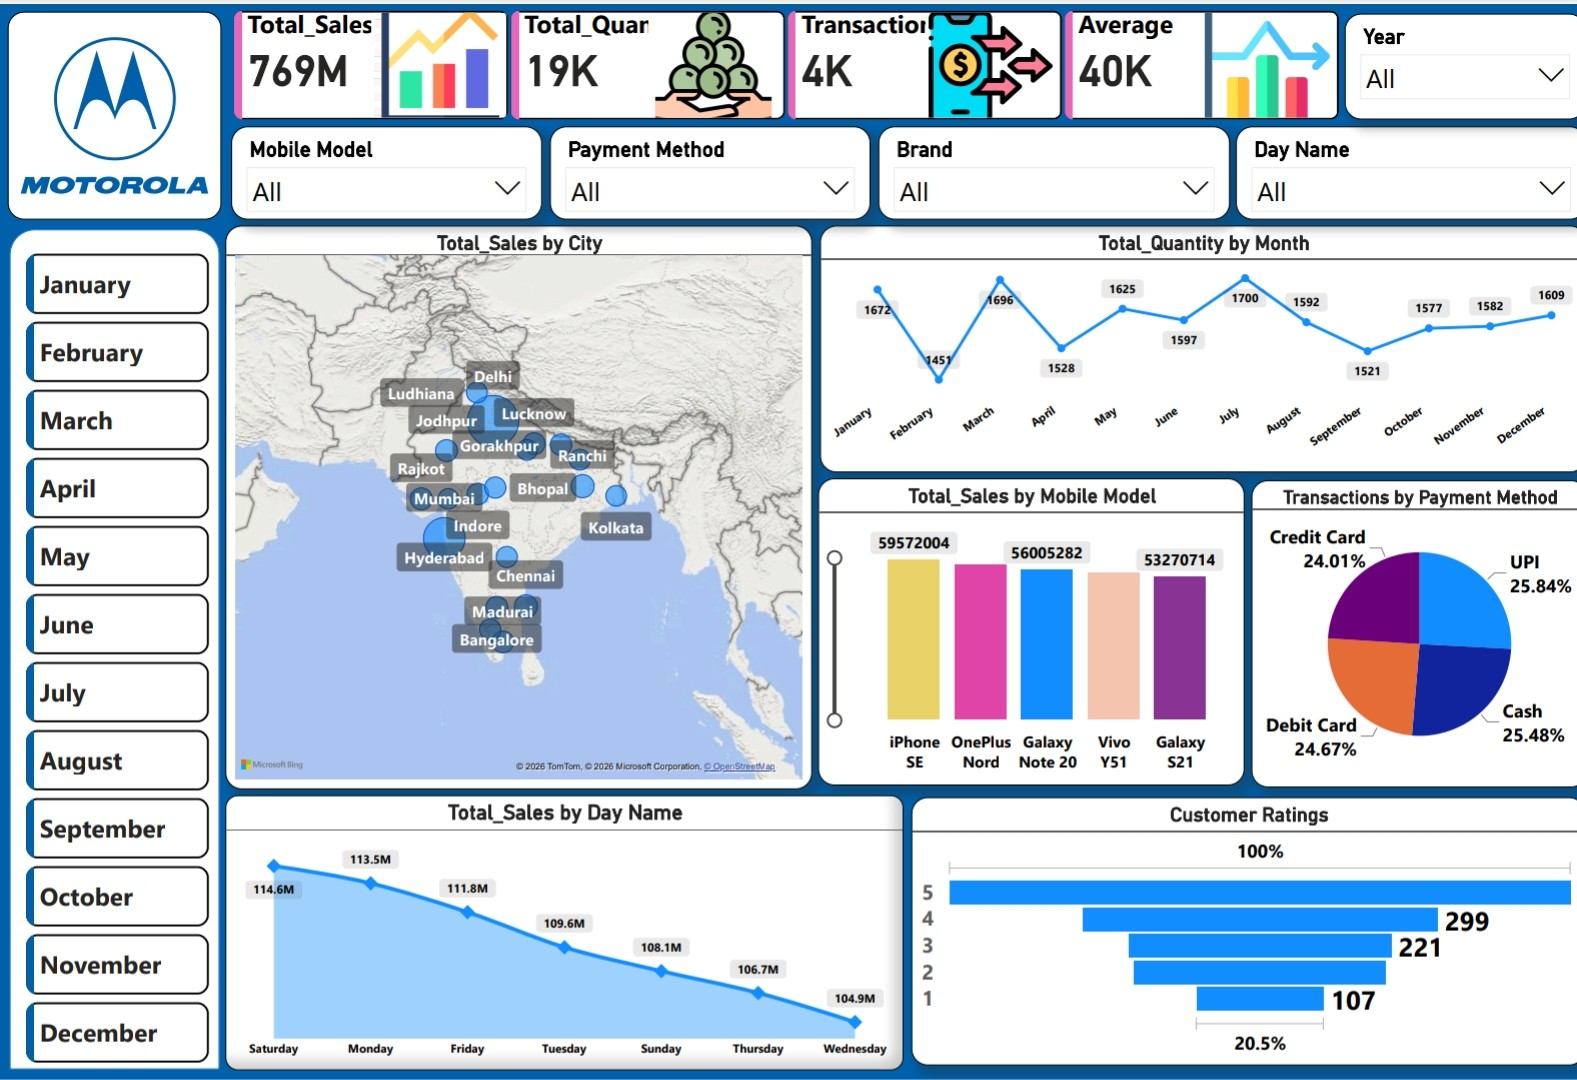

This screenshot's page, from the dashboard's own definition file:
{"tool":"powerbi","page":{"name":"Motorola Sales Dashboard","canvas":[1642,1106],"ordinal":0},"visuals":[{"type":"image","box":[10,8,220,214],"z":0},{"type":"shape","box":[12,232,216,864],"z":1000},{"type":"advancedSlicerVisual","fields":{"Values":["Mobile_Sales_Data.Date.Variation.Date Hierarchy.Month"]},"box":[23,252.4,198,848],"z":2000},{"type":"map","fields":{"Category":["Mobile_Sales_Data.City"],"Size":["Mobile_Sales_Data.Total_Sales"]},"box":[234,228,604,580],"z":4000},{"type":"lineChart","fields":{"Y":["Mobile_Sales_Data.Total_Quantity"],"Category":["Mobile_Sales_Data.Date.Variation.Date Hierarchy.Month","Mobile_Sales_Data.Date.Variation.Date Hierarchy.Day"]},"box":[846,228,789,254],"z":5000},{"type":"clusteredColumnChart","fields":{"Category":["Mobile_Sales_Data.Mobile Model"],"Y":["Mobile_Sales_Data.Total_Sales"]},"box":[844,488,439,316],"z":6000},{"type":"pieChart","fields":{"Category":["Mobile_Sales_Data.Payment Method"],"Y":["Mobile_Sales_Data.Transactions"]},"box":[1290,490,346,316],"z":7000},{"type":"funnel","title":" Customer Ratings","fields":{"Category":["Mobile_Sales_Data.Customer Ratings"],"Y":["CountNonNull(Mobile_Sales_Data.Customer Ratings)"]},"box":[940,816,694,276],"z":8000},{"type":"areaChart","fields":{"Category":["Mobile_Sales_Data.Day Name"],"Y":["Mobile_Sales_Data.Total_Sales"]},"box":[234,814,698,283],"z":9000},{"type":"cardVisual","fields":{"Data":["Mobile_Sales_Data.Total_Sales","Mobile_Sales_Data.Total_Quantity","Mobile_Sales_Data.Transactions","Mobile_Sales_Data.Average"]},"box":[238,2,1148,122],"z":9001},{"type":"slicer","fields":{"Values":["Mobile_Sales_Data.Mobile Model"]},"box":[240,126,320,96],"z":9002},{"type":"slicer","fields":{"Values":["Mobile_Sales_Data.Payment Method"]},"box":[568,126,330,96],"z":9003},{"type":"slicer","fields":{"Values":["Mobile_Sales_Data.Brand"]},"box":[906,126,362,96],"z":9004},{"type":"slicer","fields":{"Values":["Mobile_Sales_Data.Day Name"]},"box":[1274,126,361,96],"z":9005},{"type":"slicer","fields":{"Values":["Mobile_Sales_Data.Date.Variation.Date Hierarchy.Year"]},"box":[1386,10,248,109],"z":9006}]}

Visuals, with their boxes in screenshot pixels (x1, y1, x2, y2), scaled from the page's 1642x1106 canvas onto the 1577x1080 screenshot:
image: [10,8,221,217]
shape: [12,227,219,1070]
advancedSlicerVisual - Mobile_Sales_Data.Date.Variation.Date Hierarchy.Month: [22,246,212,1075]
map - Mobile_Sales_Data.City x Mobile_Sales_Data.Total_Sales: [225,223,805,789]
lineChart - Mobile_Sales_Data.Total_Quantity x Mobile_Sales_Data.Date.Variation.Date Hierarchy.Month: [813,223,1570,471]
clusteredColumnChart - Mobile_Sales_Data.Mobile Model x Mobile_Sales_Data.Total_Sales: [811,477,1232,785]
pieChart - Mobile_Sales_Data.Payment Method x Mobile_Sales_Data.Transactions: [1239,478,1571,787]
" Customer Ratings" funnel: [903,797,1569,1066]
areaChart - Mobile_Sales_Data.Day Name x Mobile_Sales_Data.Total_Sales: [225,795,895,1071]
cardVisual - Mobile_Sales_Data.Total_Sales x Mobile_Sales_Data.Total_Quantity: [229,2,1331,121]
slicer - Mobile_Sales_Data.Mobile Model: [230,123,538,217]
slicer - Mobile_Sales_Data.Payment Method: [546,123,862,217]
slicer - Mobile_Sales_Data.Brand: [870,123,1218,217]
slicer - Mobile_Sales_Data.Day Name: [1224,123,1570,217]
slicer - Mobile_Sales_Data.Date.Variation.Date Hierarchy.Year: [1331,10,1569,116]
